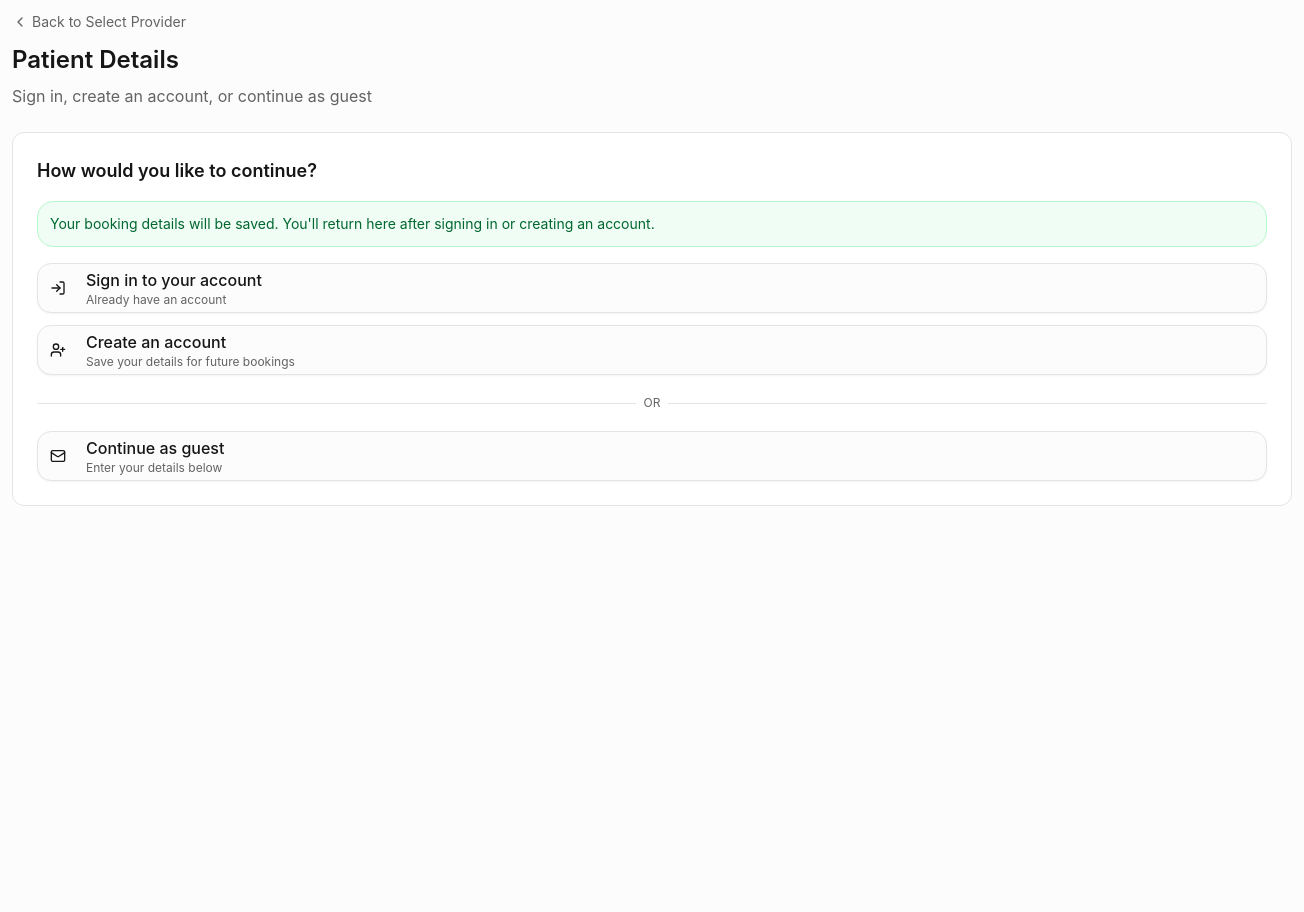
Auth Gate › "Continue as guest" switches to guest form
The image size is (1304, 912).
Click the text "Continue as guest": (155, 448) [86,436,224,460]
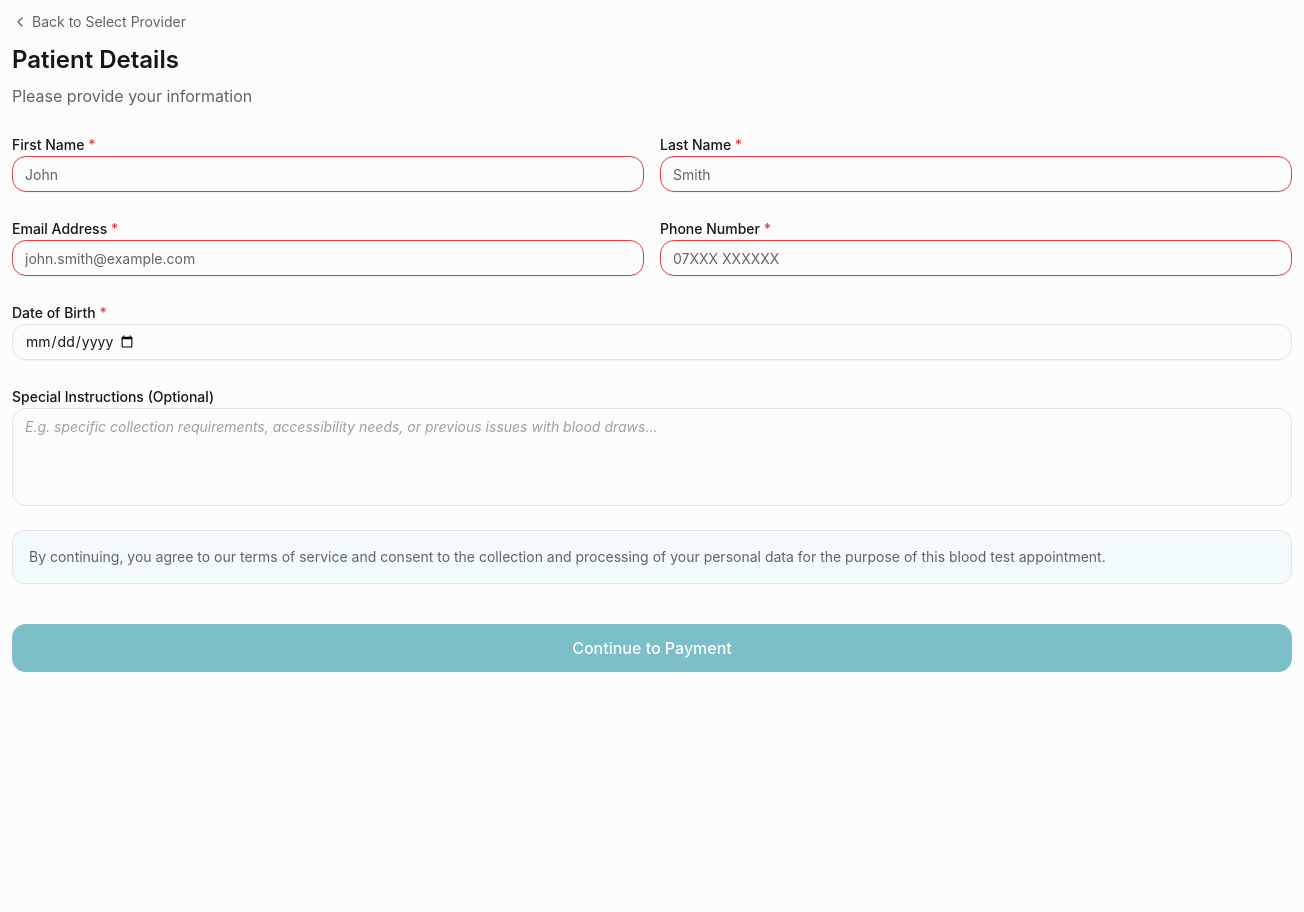
Result: the field labelled "First Name *" is shown at [12,156,644,192]
